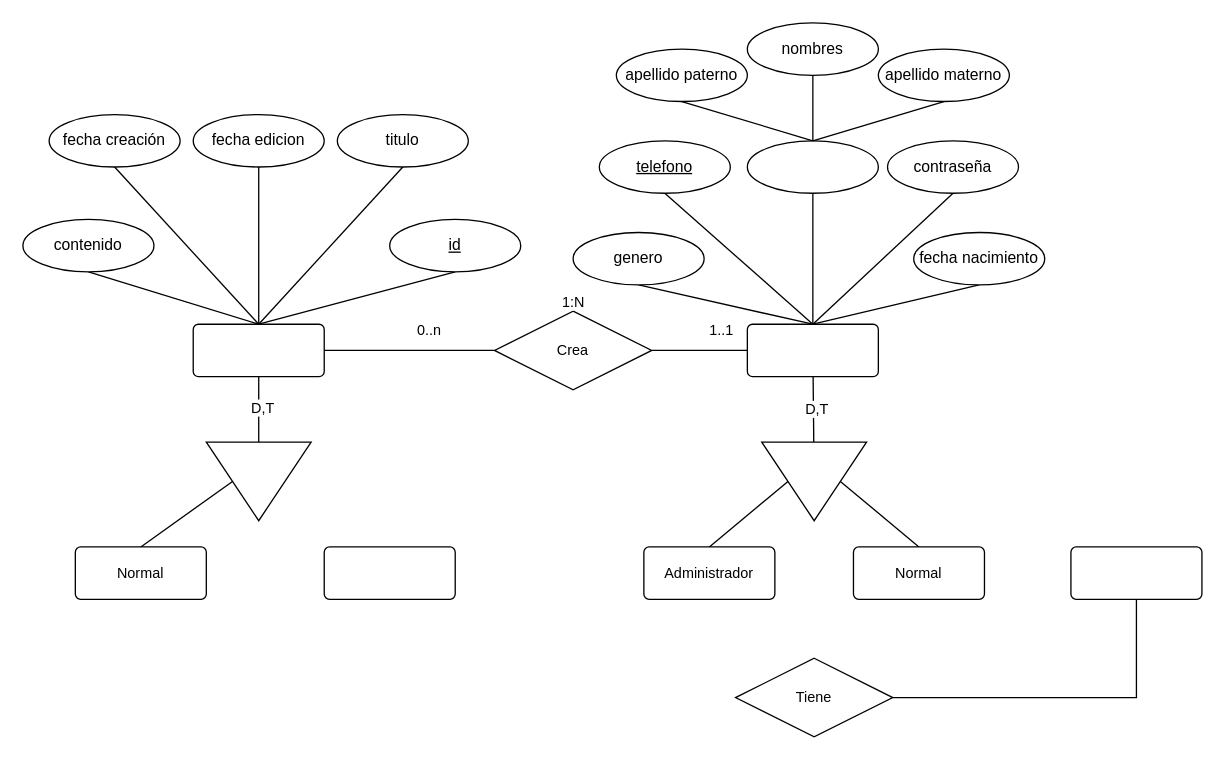
The diagram is 1225 pixels wide and 760 high, and some of its shapes have lost their labels. The centre of each missing label's shape, as x and y in pixels:
"Anclado" goes at [389,572].
"Comentarios" goes at [1136,572].
"nombre" goes at [812,166].
"Post" goes at [258,350].
"Usuario" goes at [812,350].
